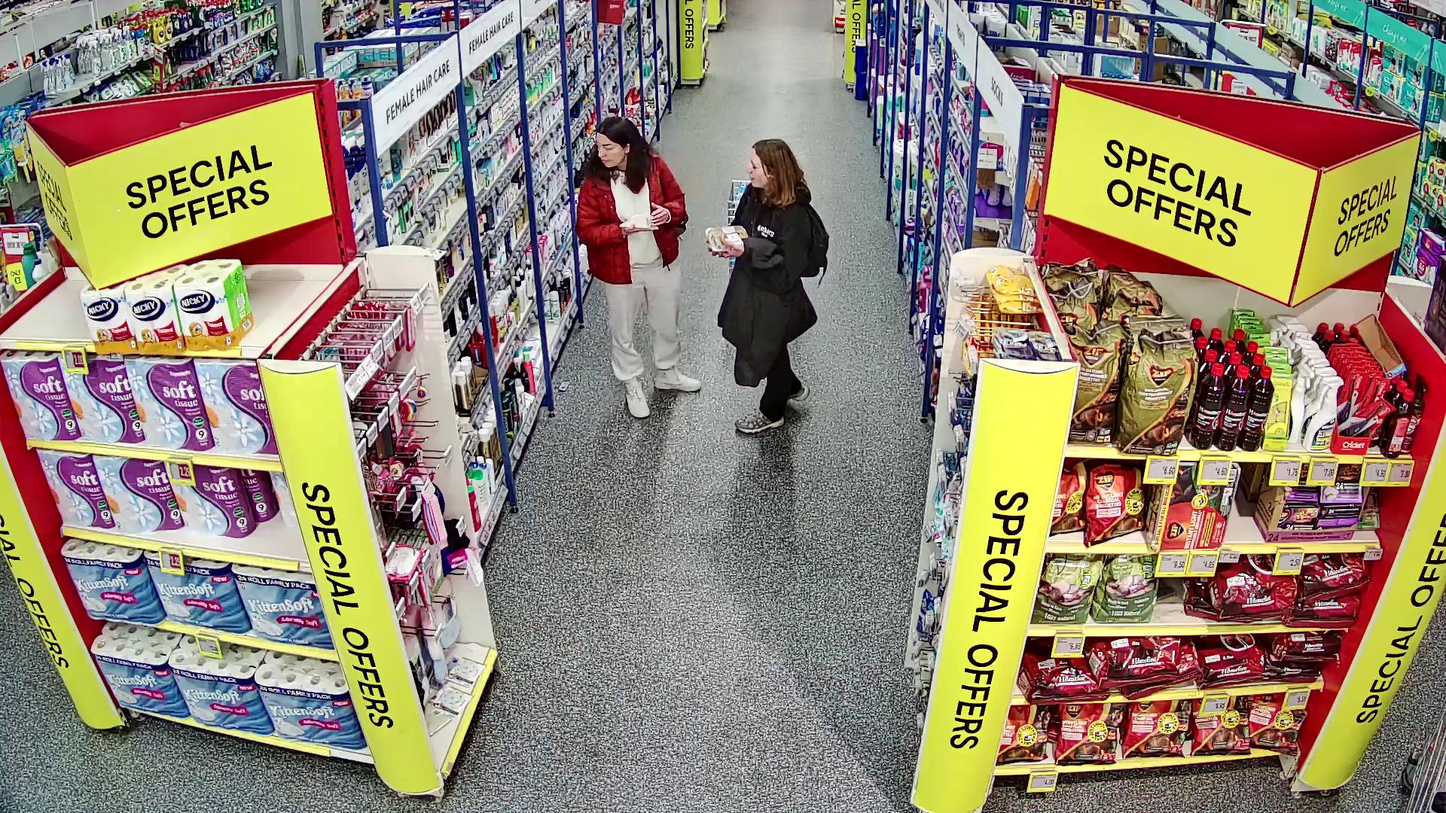backpack-or-handbag: (794, 196, 830, 287)
carrying-item: (703, 222, 750, 256), (618, 211, 654, 234)
person: (576, 114, 703, 418), (717, 140, 817, 433)
person-with-backpack-handbag-and-carrying-item-s-: (703, 140, 831, 435)
person-with-carrying-item: (575, 114, 702, 418)
